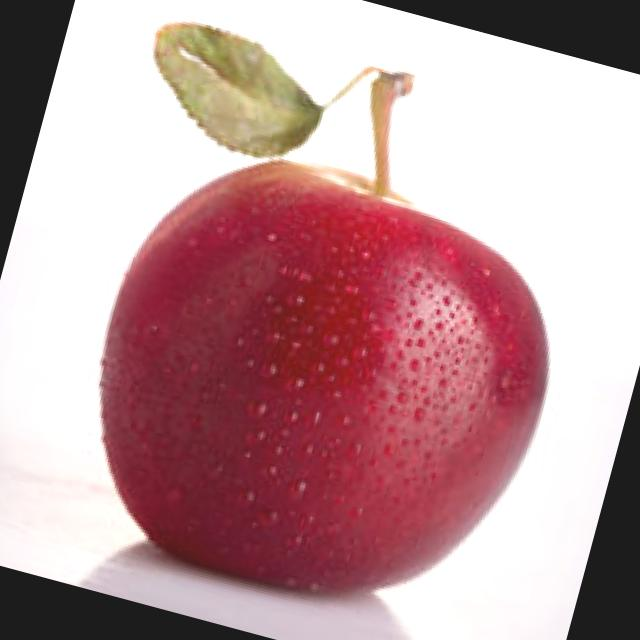apple: (43, 119, 591, 640)
